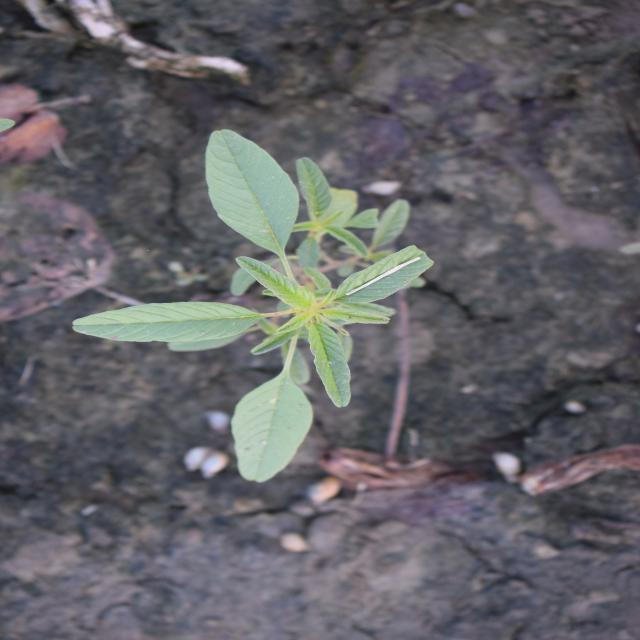Waterhemp: (68, 128, 438, 484)
